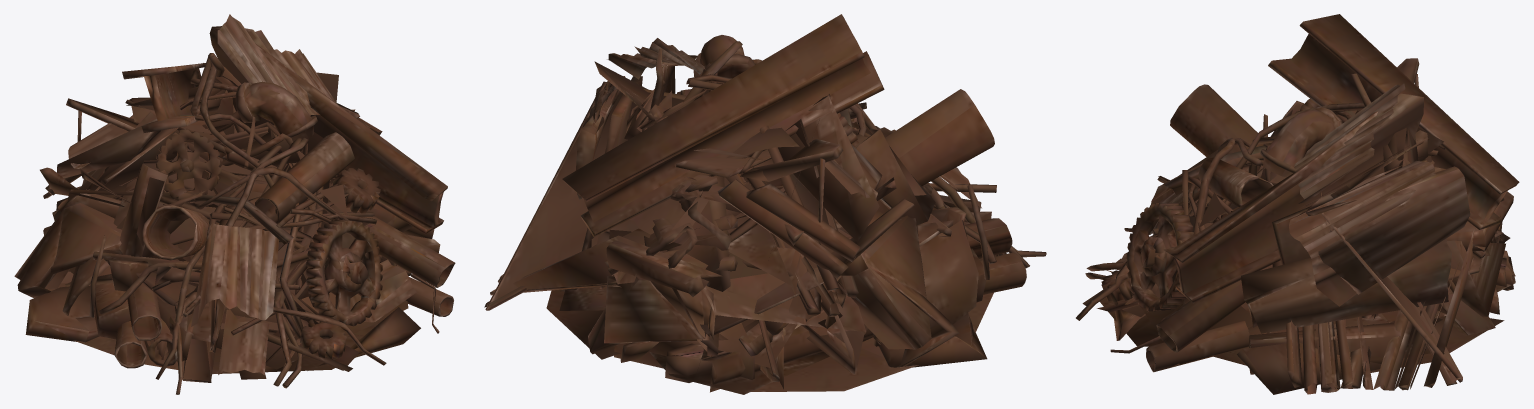
Rendered from scrap_pile_junkyard.glb.
3 views of the same model, side by side, from view 1: azimuth 30°, elevation 25°; view 2: azimuth 150°, elevation 25°; view 3: azimuth 270°, elevation 25° (orthographic). The views are drawn at different scales.
Parts seen in each view (by area): view 1: Meshy_AI_scrap_pile_junkyard_3d_20261028_texture; view 2: Meshy_AI_scrap_pile_junkyard_3d_20261028_texture; view 3: Meshy_AI_scrap_pile_junkyard_3d_20261028_texture.
Part boxes in pixels (x1,y1,x2,y2): Meshy_AI_scrap_pile_junkyard_3d_20261028_texture: [14, 14, 455, 394]; Meshy_AI_scrap_pile_junkyard_3d_20261028_texture: [484, 14, 1046, 394]; Meshy_AI_scrap_pile_junkyard_3d_20261028_texture: [1076, 14, 1519, 394].
Size of the model in its own units: 3.5 by 2.14 by 3.39.
1 material, 1 textured.
